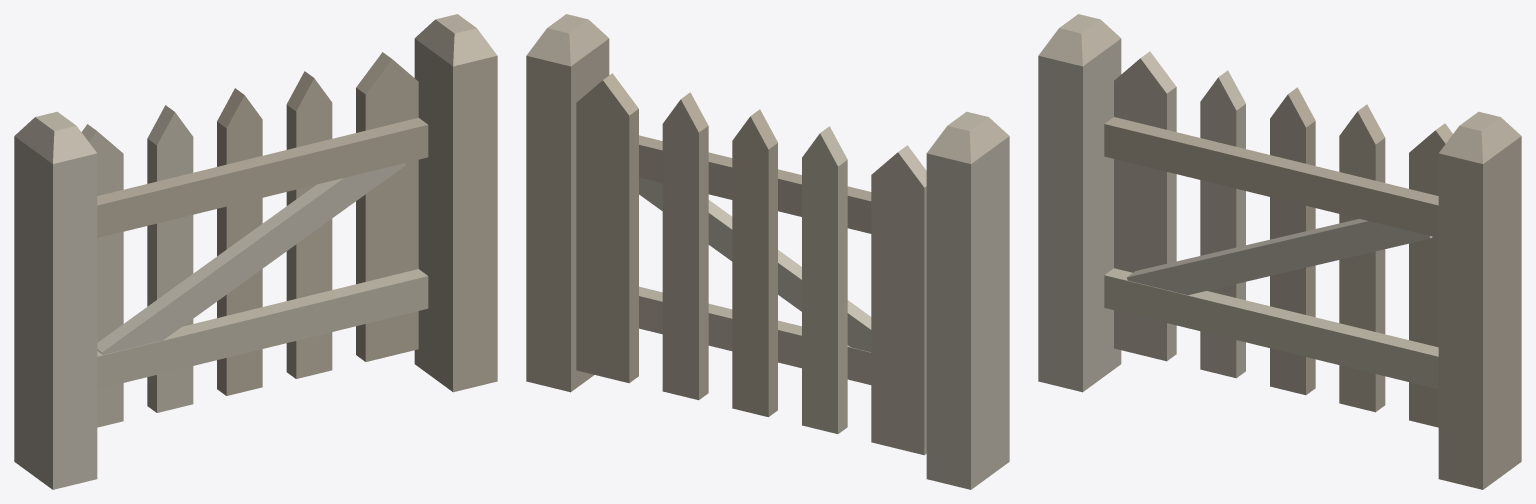
File: FenceGate4.glb
3 renders of one model, left to right at view 1: azimuth 30°, elevation 25°; view 2: azimuth 150°, elevation 25°; view 3: azimuth 330°, elevation 25°, orthographic.
Parts seen in each view (by area): view 1: Door, Wood; view 2: Door, Wood; view 3: Door, Wood.
Part boxes in pixels (x1,y1,x2,y2): Door: (81, 52, 428, 427); Wood: (14, 14, 497, 489); Door: (576, 73, 926, 455); Wood: (526, 14, 1009, 489); Door: (1104, 51, 1452, 427); Wood: (1038, 14, 1521, 489).
Size of the model in its own units: 4 by 3 by 0.6.
